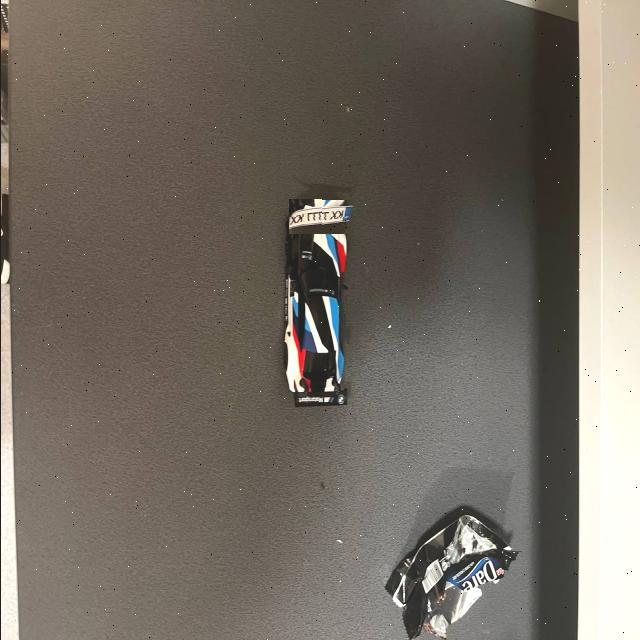KX 7777 KX: (288, 201, 355, 233)
